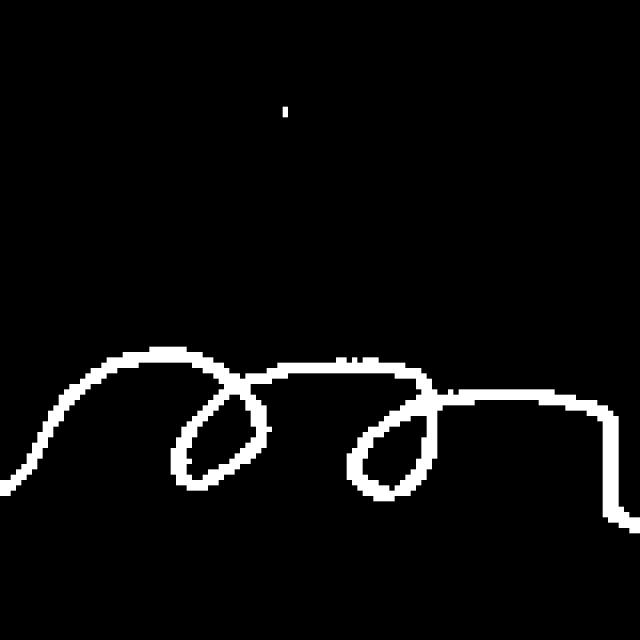inductor: (3, 330, 629, 538)
